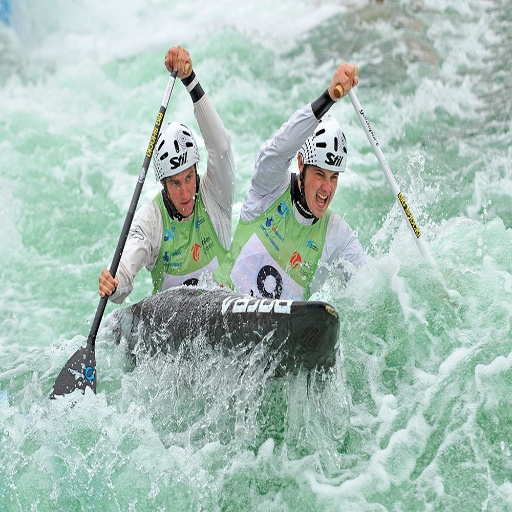hand: (158, 39, 196, 84), (327, 62, 358, 100), (98, 267, 119, 296)
